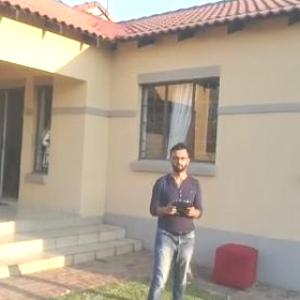follow: (140, 137, 208, 299)
